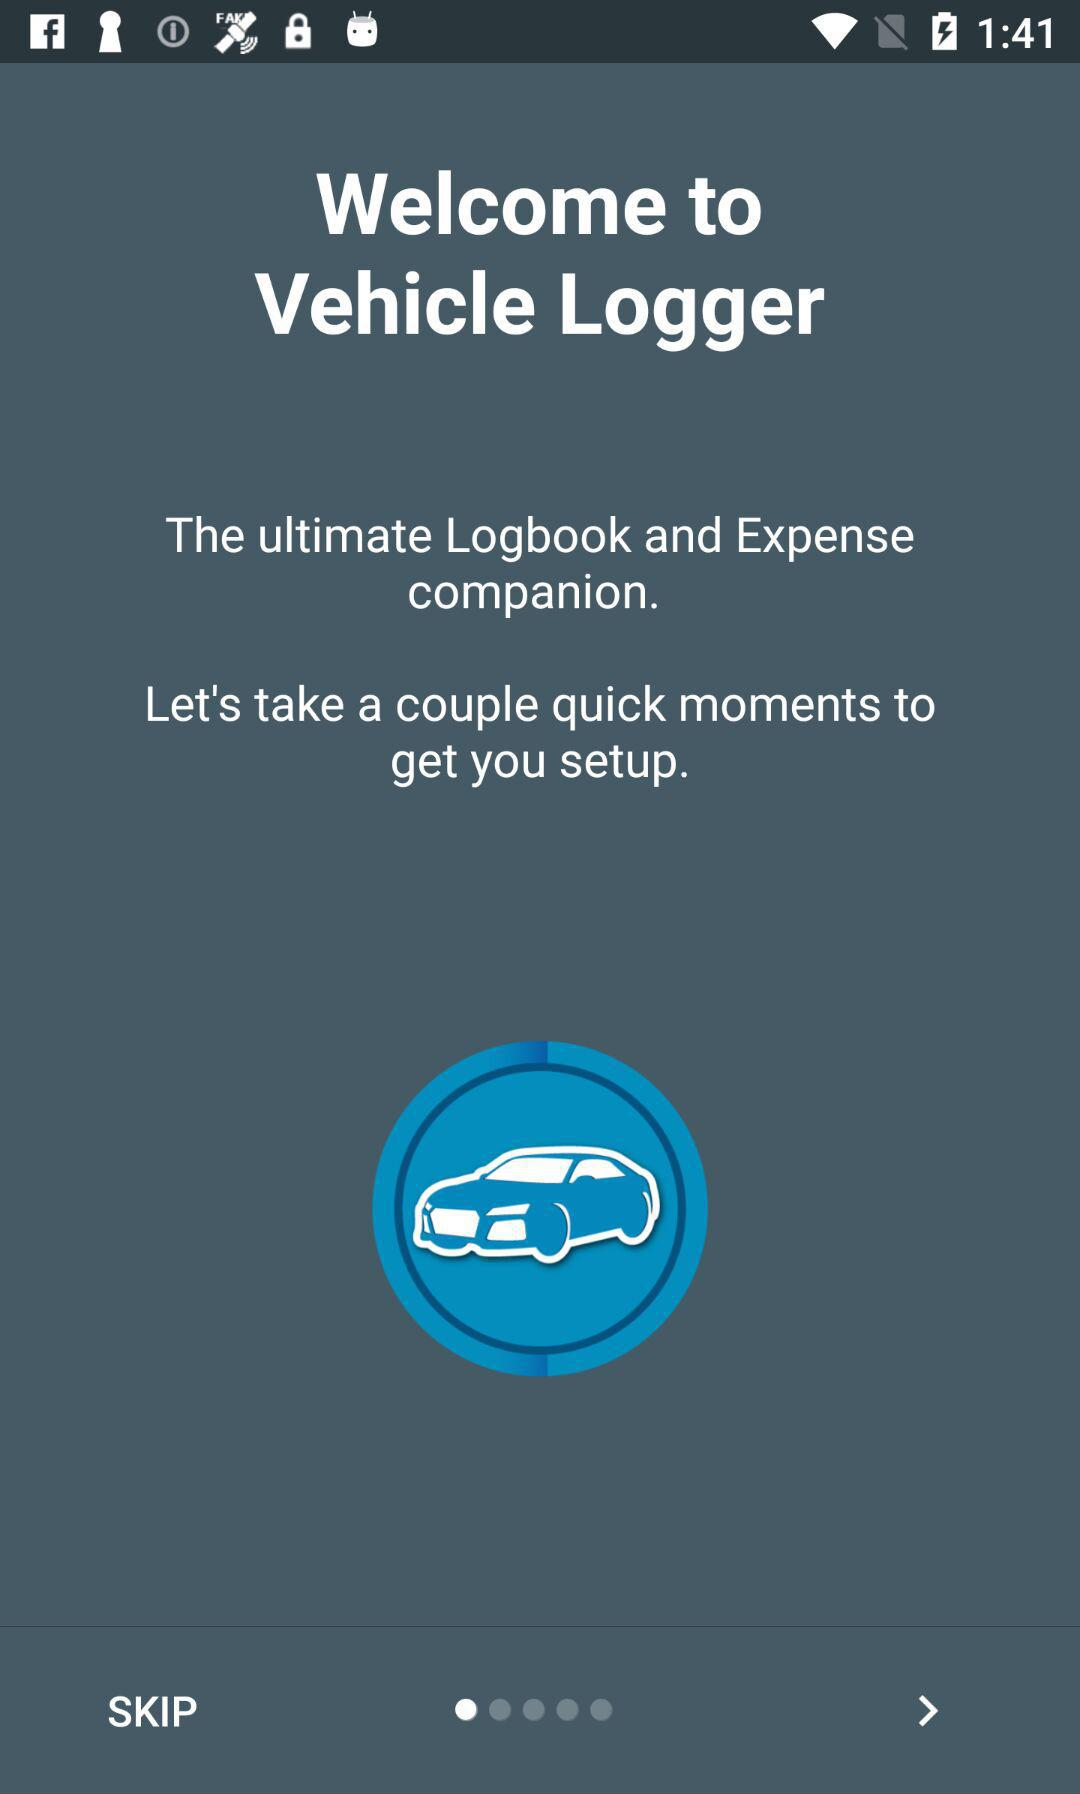Icon: (917, 1694, 940, 1727)
Image: (370, 1039, 710, 1378)
PageIndicator: (454, 1697, 615, 1724)
Text: (252, 169, 826, 355), (146, 684, 937, 789), (165, 515, 915, 620), (108, 1695, 199, 1729)
UpperTaskBar: (1, 1, 1080, 64)
